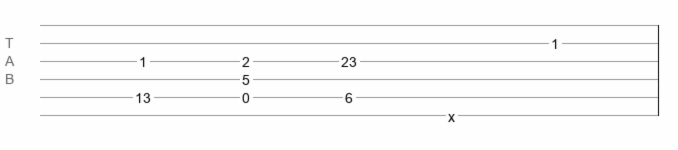0: (242, 90, 250, 100)
1: (139, 54, 147, 64), (551, 36, 559, 46)
13: (135, 90, 151, 100)
2: (242, 54, 250, 64)
23: (341, 54, 357, 64)
5: (242, 72, 250, 82)
6: (345, 90, 353, 100)
x: (448, 109, 455, 117)
